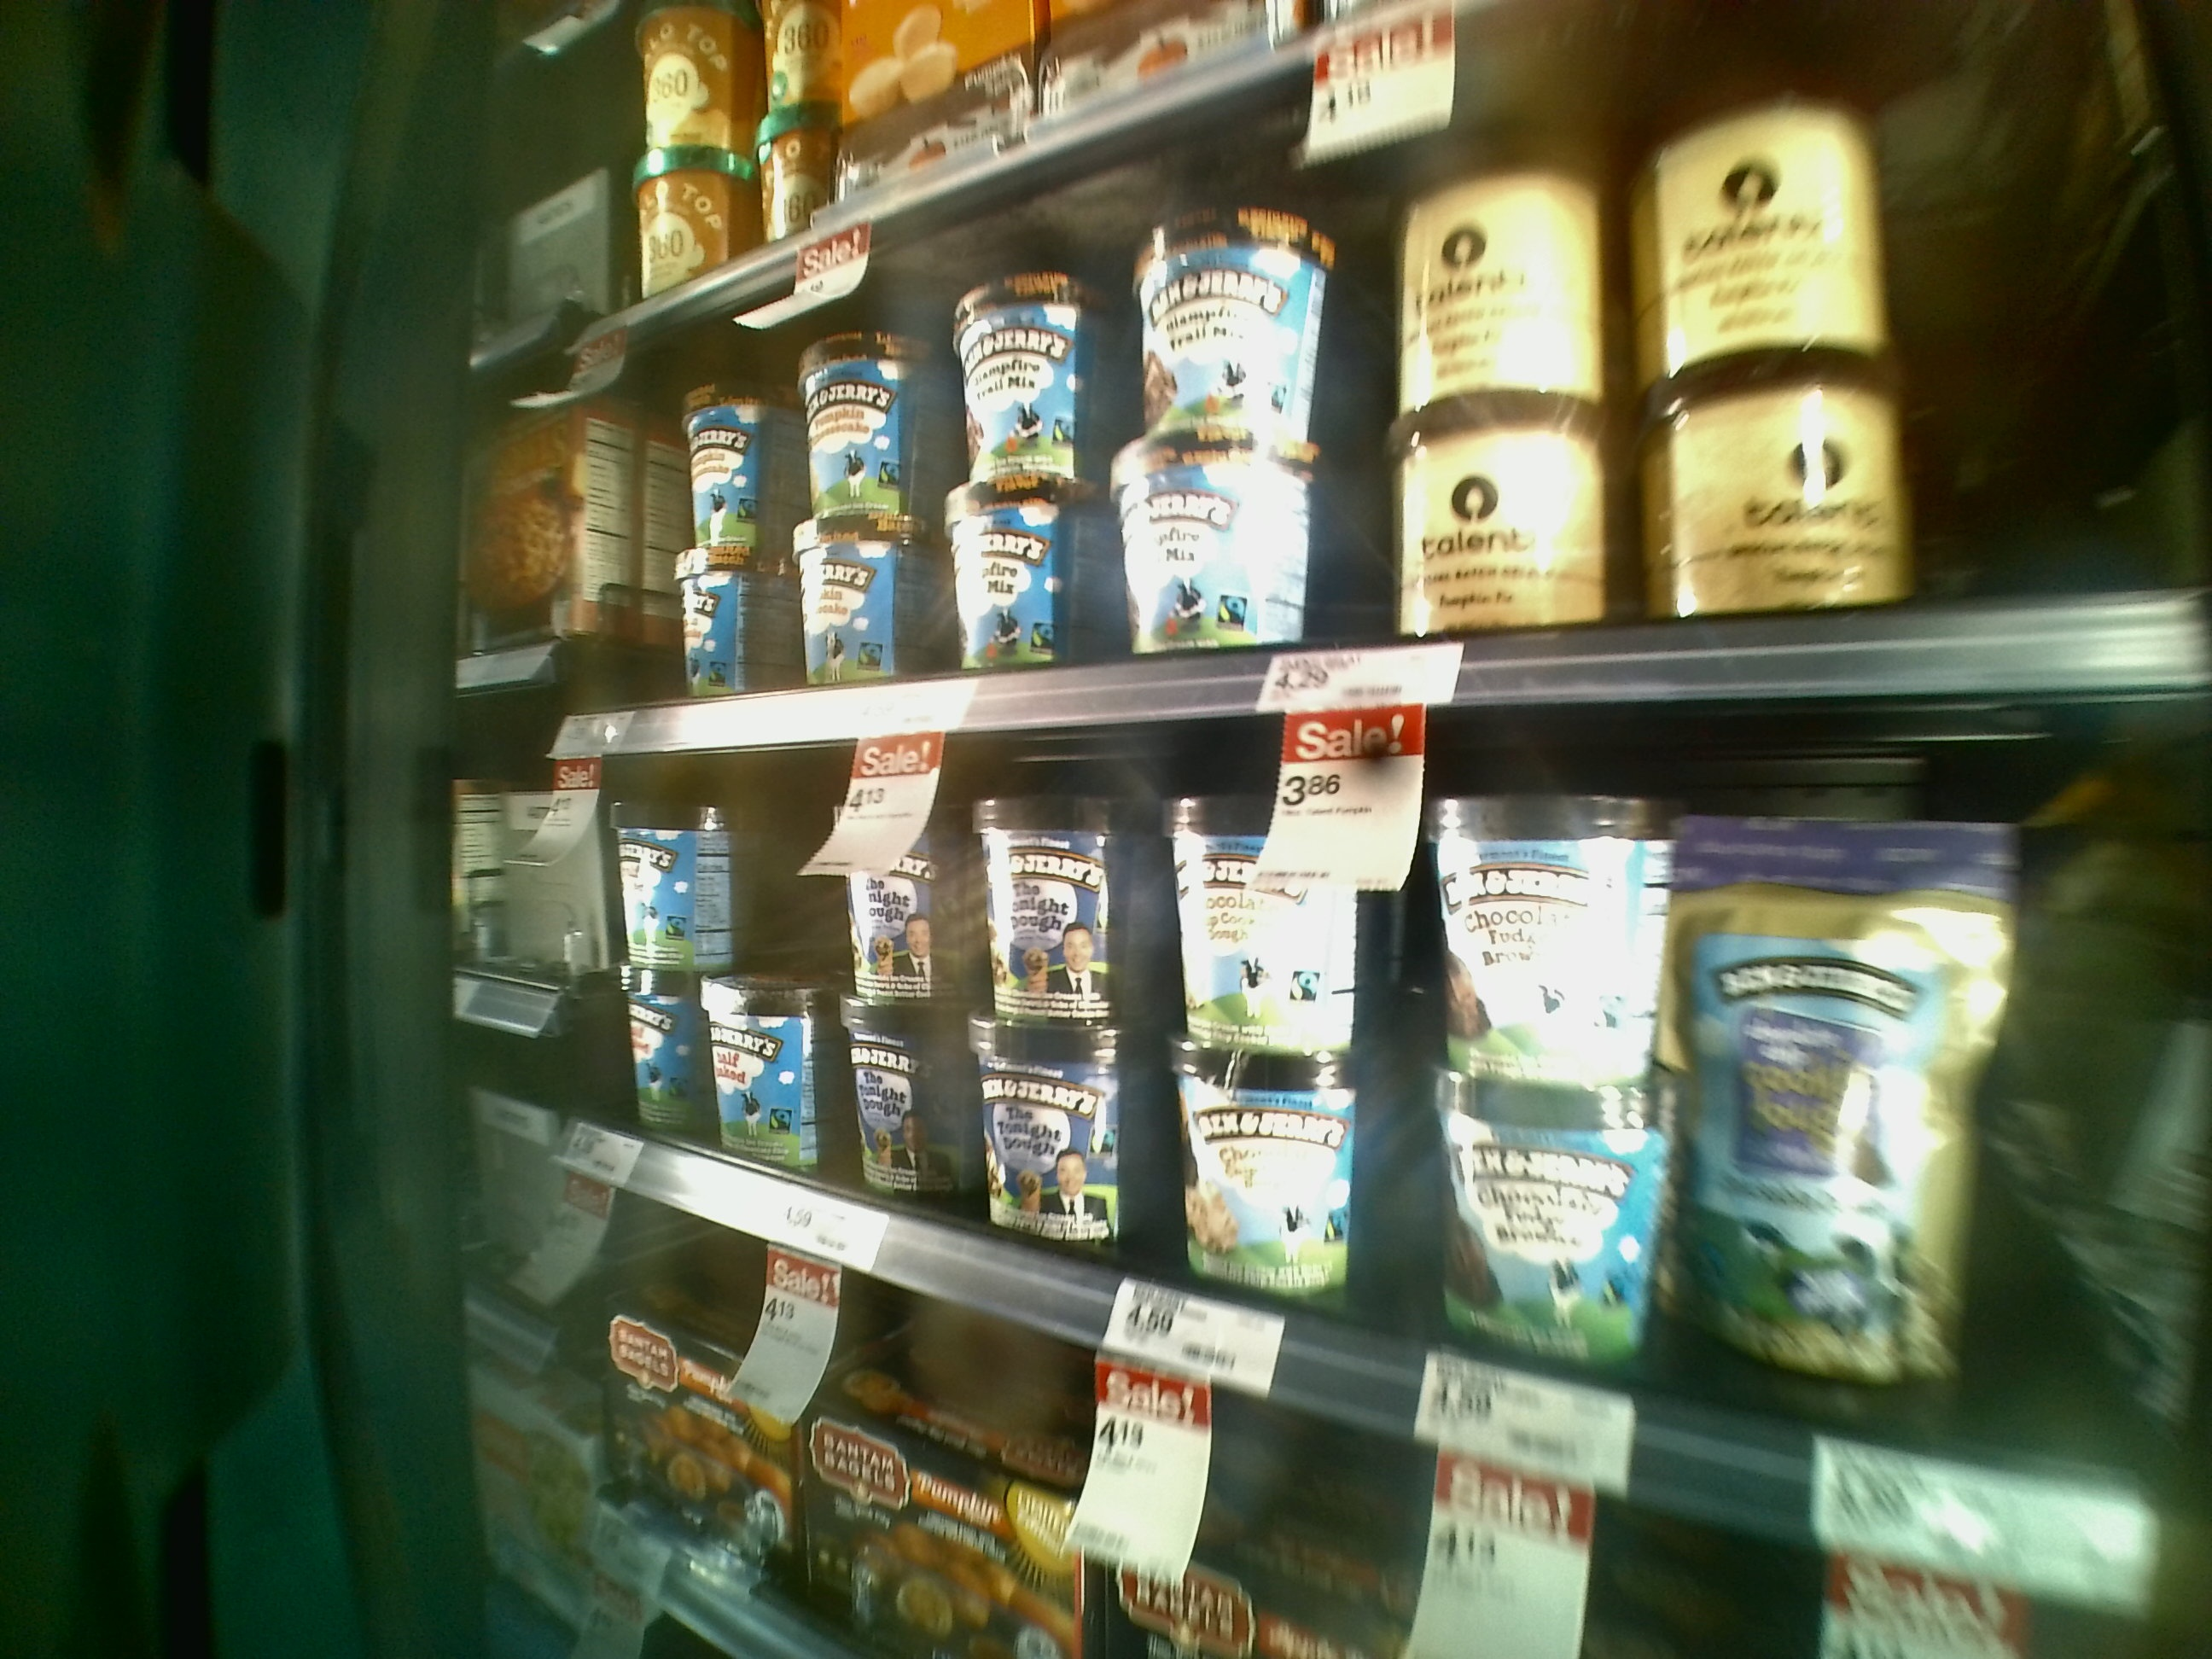shelf: (568, 694, 2184, 1582), (575, 220, 2191, 699)
